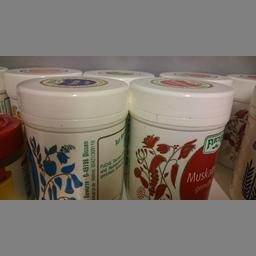spices: (15, 74, 128, 198), (128, 76, 233, 198)
